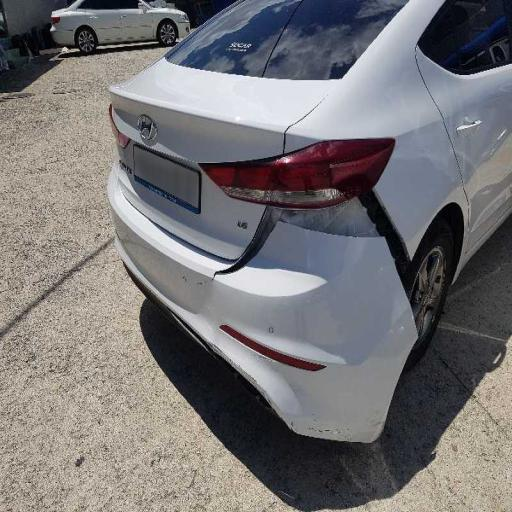broken: (186, 72, 455, 358)
